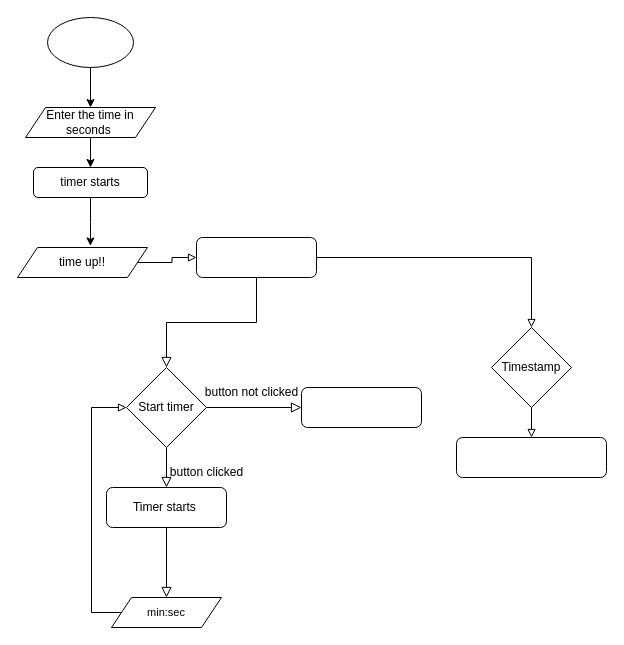
This 624x645 diagram has some shape labels left out. The centre of each missing label's shape, as x and y in pixels:
GUI open: the point at 256,257
Program start: the point at 90,42
Show time: the point at 361,407
Show time start: the point at 531,457
